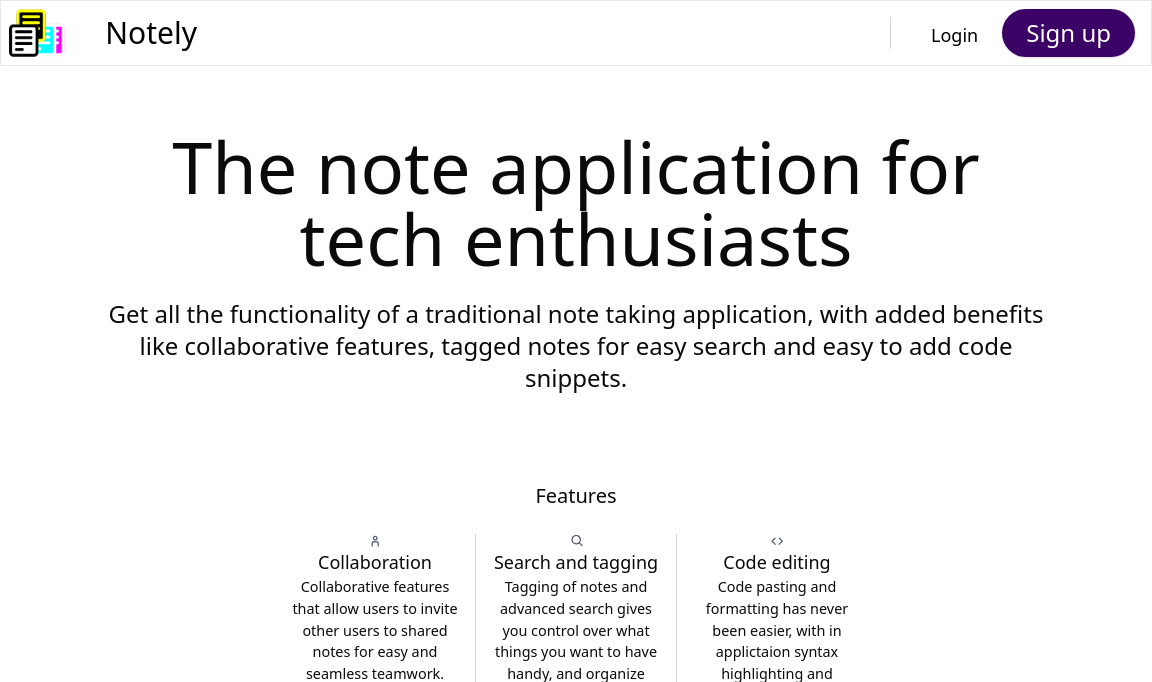
Test: Authentication Tests › Reset password tests
Click the link "Login". click: click(955, 35)
box: [931,23,978,47]
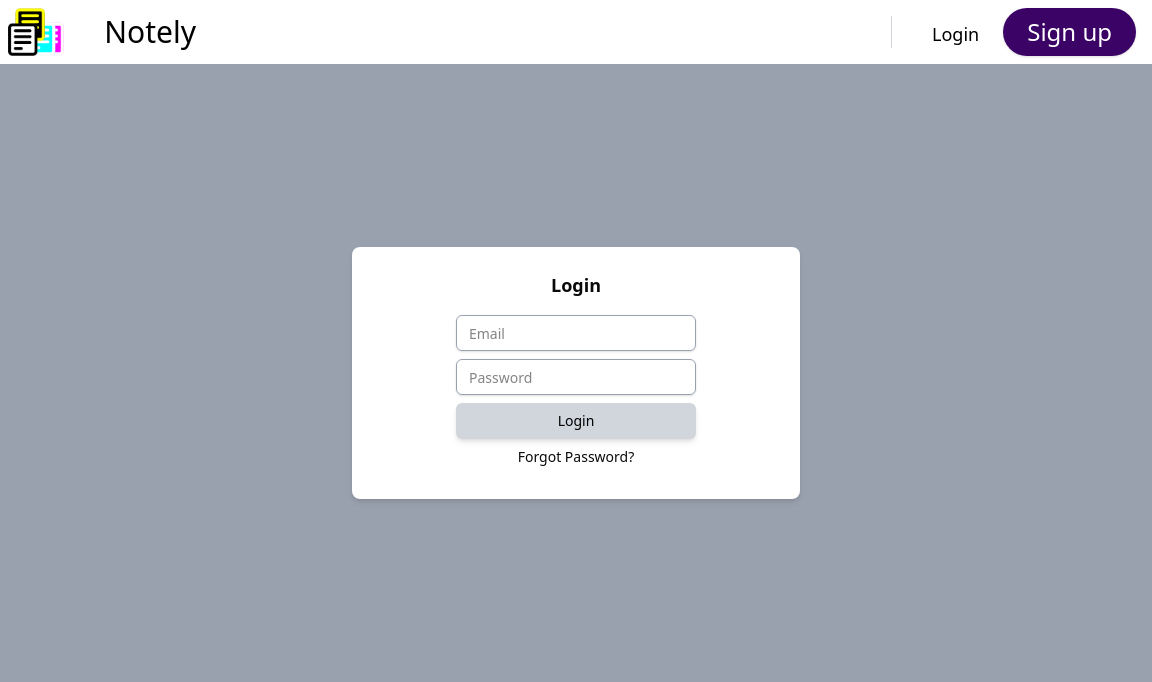
Click the link with test id "resetPasswordButton". click: click(577, 457)
box: [518,447,635,466]
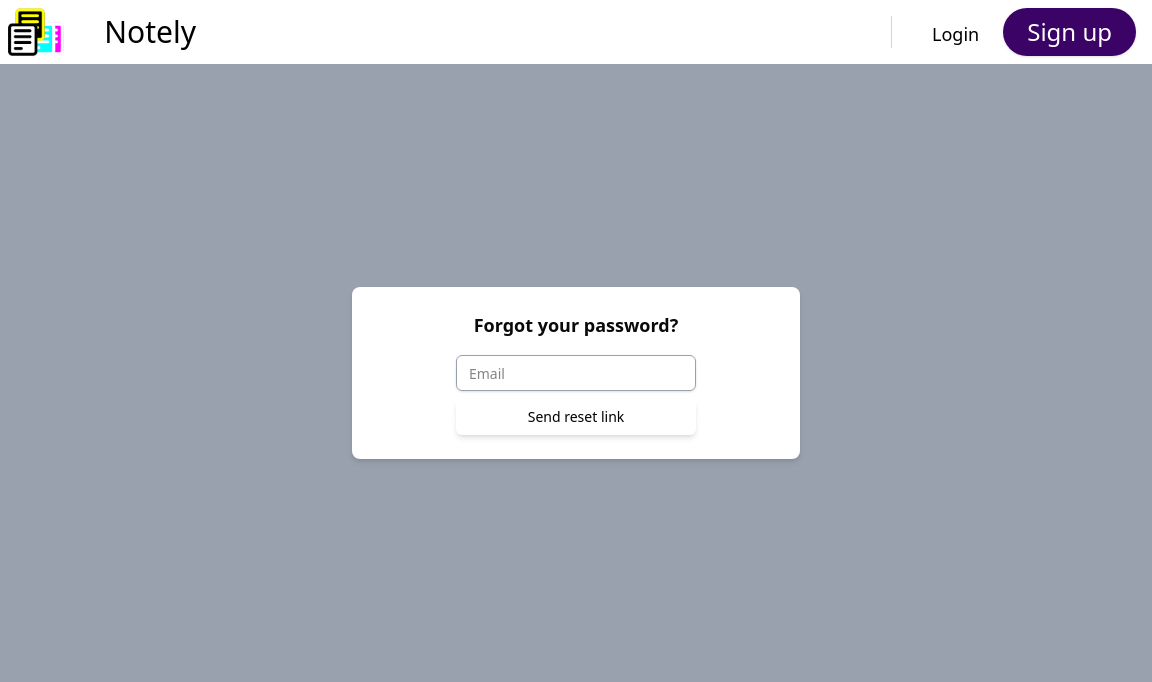
Type "notAnEmail" into the field with test id "resetPasswordEmail". click: (576, 373)
box: [456,355,696,391]
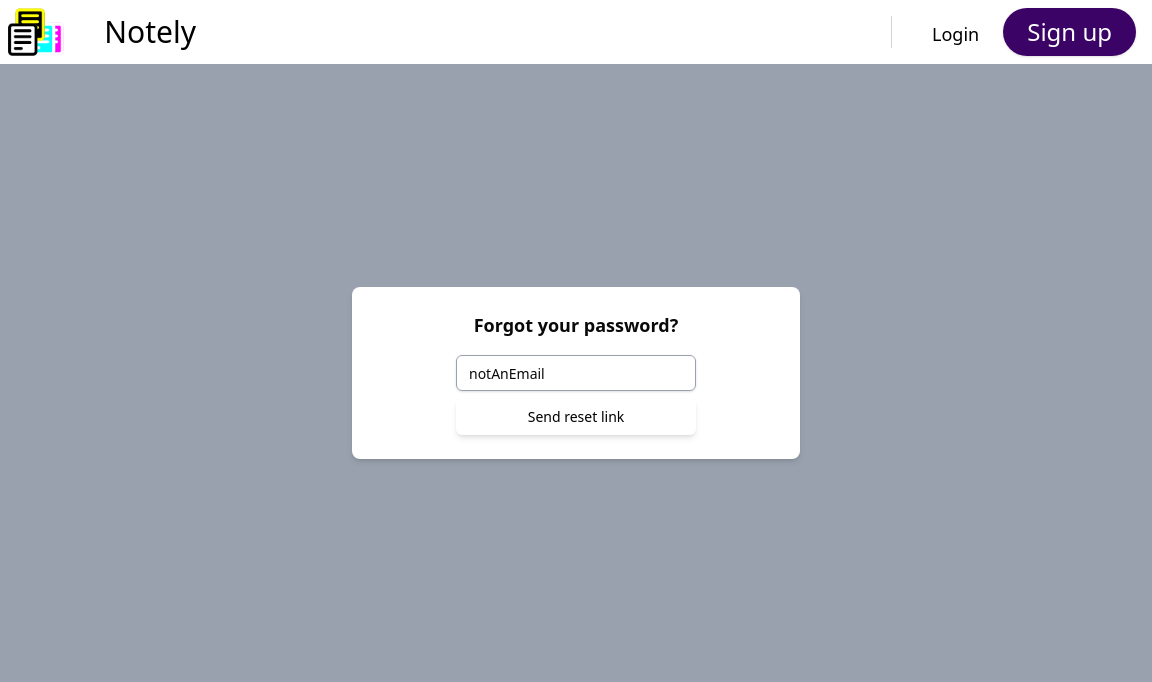
Click the button with test id "sendResetPasswordLink". click: click(576, 417)
box: [456,399,696,435]
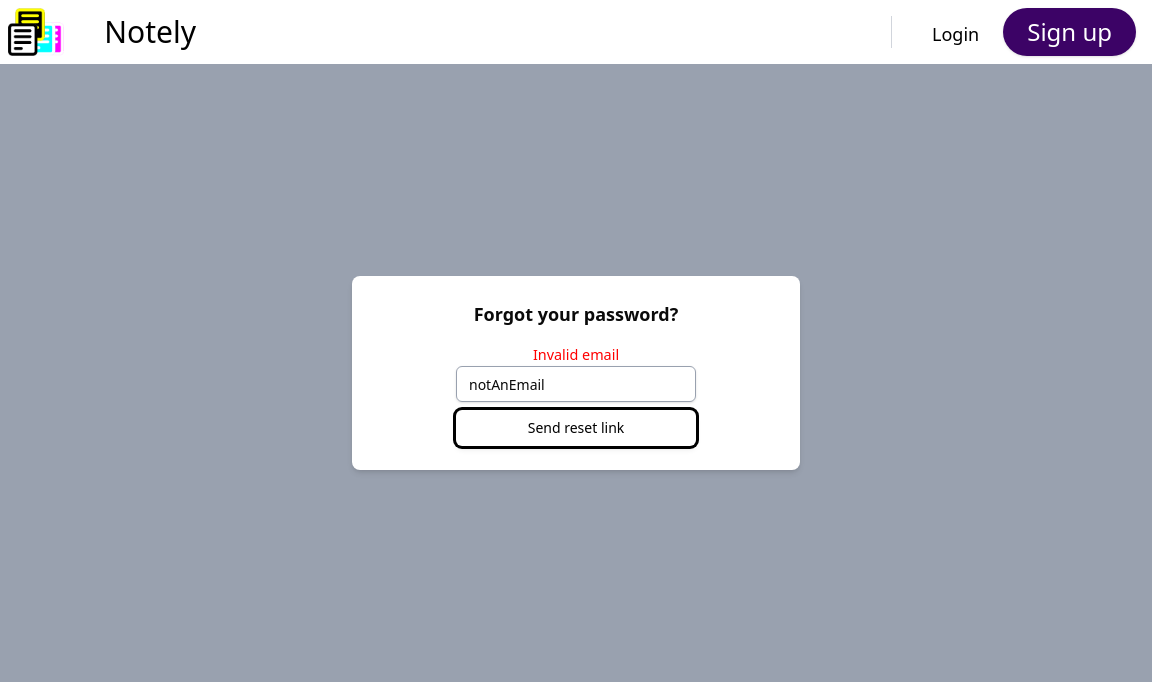
Now the text "Invalid email" is shown, box [533,344,619,366]
